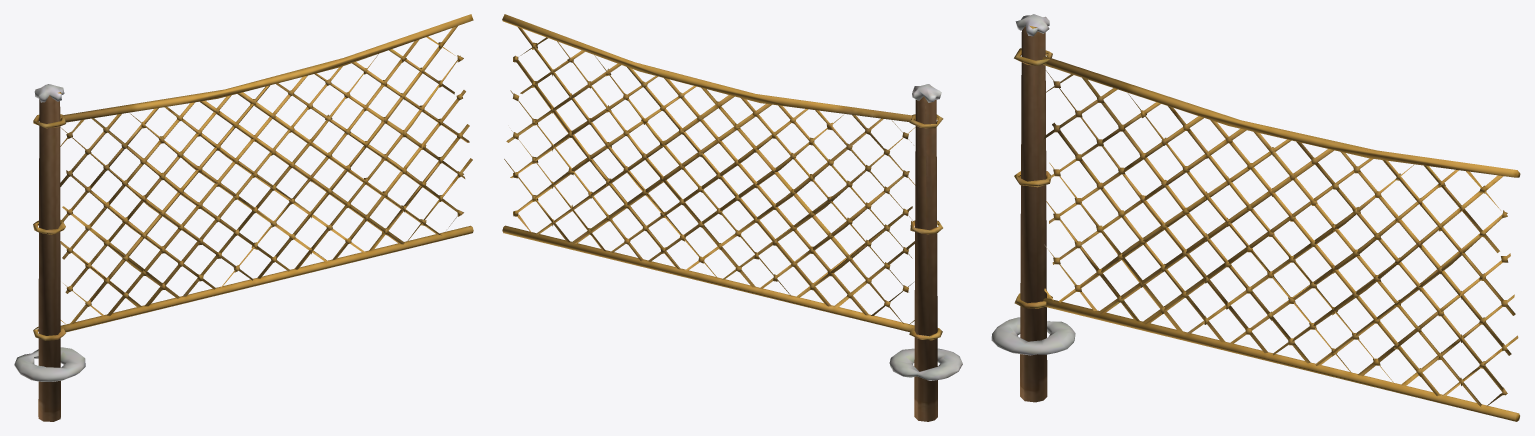
The model's file is net_span.glb.
3 views of the same model, side by side, from view 1: azimuth 30°, elevation 25°; view 2: azimuth 150°, elevation 25°; view 3: azimuth 330°, elevation 25° (orthographic). The views are drawn at different scales.
Visible parts, largest first — view 1: prop_net_span_felt, prop_net_span_wood; view 2: prop_net_span_felt, prop_net_span_wood; view 3: prop_net_span_felt, prop_net_span_wood.
Boxes of the visible parts, x1,y1,x2,y2 form: prop_net_span_felt: [14, 14, 473, 381]; prop_net_span_wood: [38, 95, 60, 421]; prop_net_span_felt: [502, 14, 962, 380]; prop_net_span_wood: [914, 96, 937, 421]; prop_net_span_felt: [991, 14, 1520, 421]; prop_net_span_wood: [1020, 26, 1047, 402].
Bounding box in the file's own units: 2.69 × 1.88 × 0.351.
2 materials, 2 textured.
